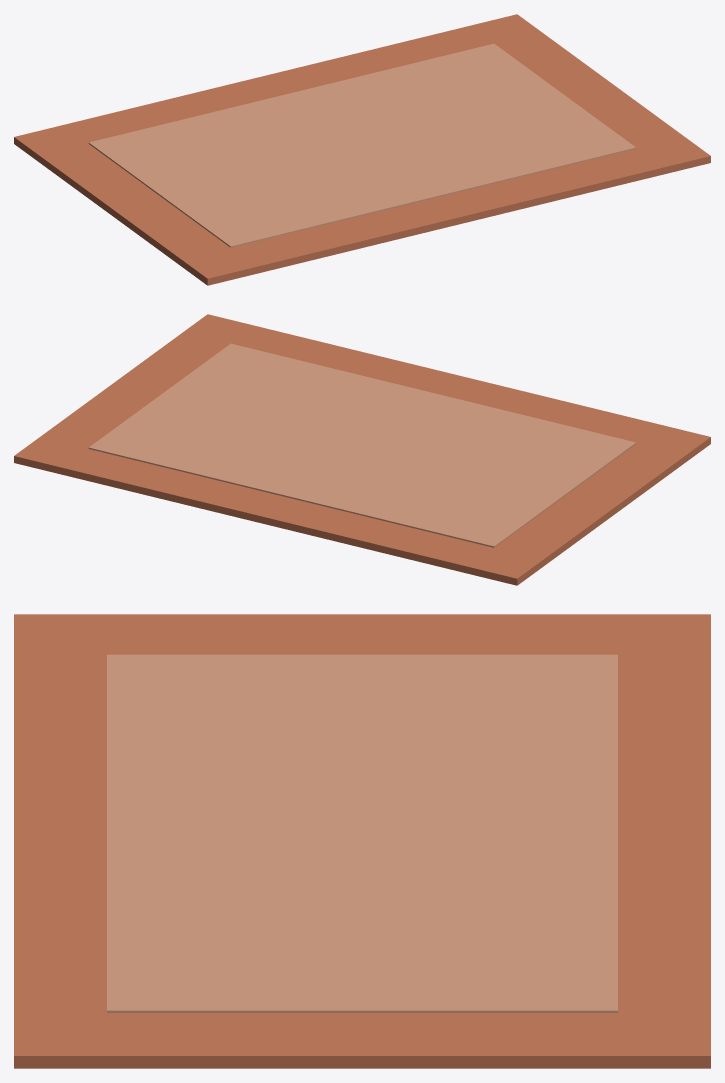
Rendered from rug.glb.
The picture shows the model from 3 angles, top to bottom: view 1: azimuth 30°, elevation 25°; view 2: azimuth 150°, elevation 25°; view 3: azimuth 270°, elevation 25°; orthographic projection. The views are drawn at different scales.
Parts seen in each view (by area): view 1: furniture; view 2: furniture; view 3: furniture.
Boxes of the visible parts, left/top/right/bottom form: furniture: left=14, top=14, right=710, bottom=285; furniture: left=14, top=314, right=710, bottom=585; furniture: left=14, top=614, right=710, bottom=1068.
Size of the model in its own units: 1.8 by 0.029 by 1.2.
